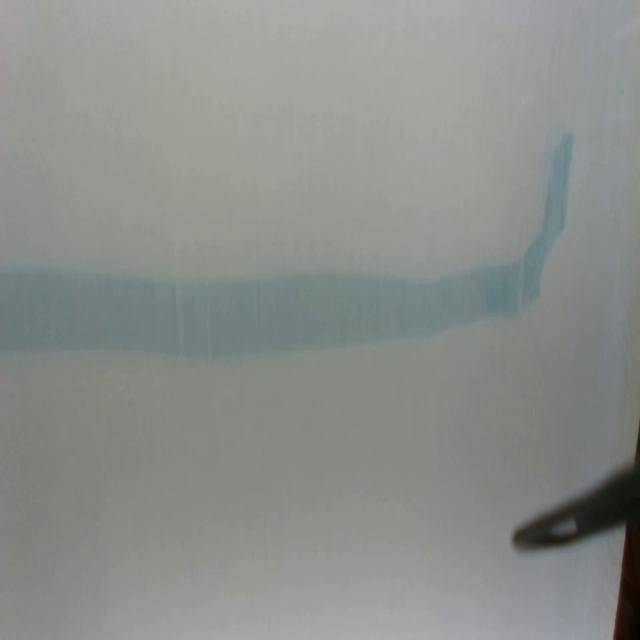color bleeding: (0, 129, 575, 368)
